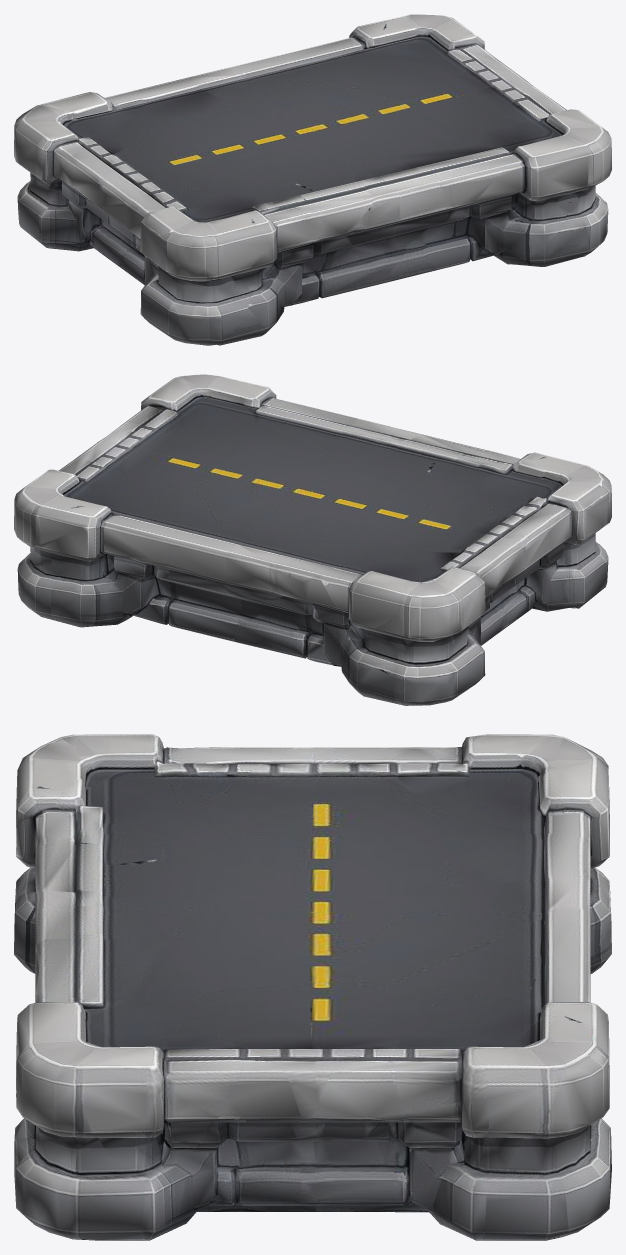
File: jetpad.glb
3 views of the same model, one above another, from view 1: azimuth 30°, elevation 25°; view 2: azimuth 150°, elevation 25°; view 3: azimuth 270°, elevation 25° (orthographic). The views are drawn at different scales.
Visible parts, largest first — view 1: mesh_node; view 2: mesh_node; view 3: mesh_node.
Boxes of the visible parts, <box> form: mesh_node: <box>14,14,611,345</box>; mesh_node: <box>14,374,611,705</box>; mesh_node: <box>14,734,611,1240</box>.
Bounding box in the file's own units: 1.9 × 0.4562 × 1.39.
1 material, 1 textured.
